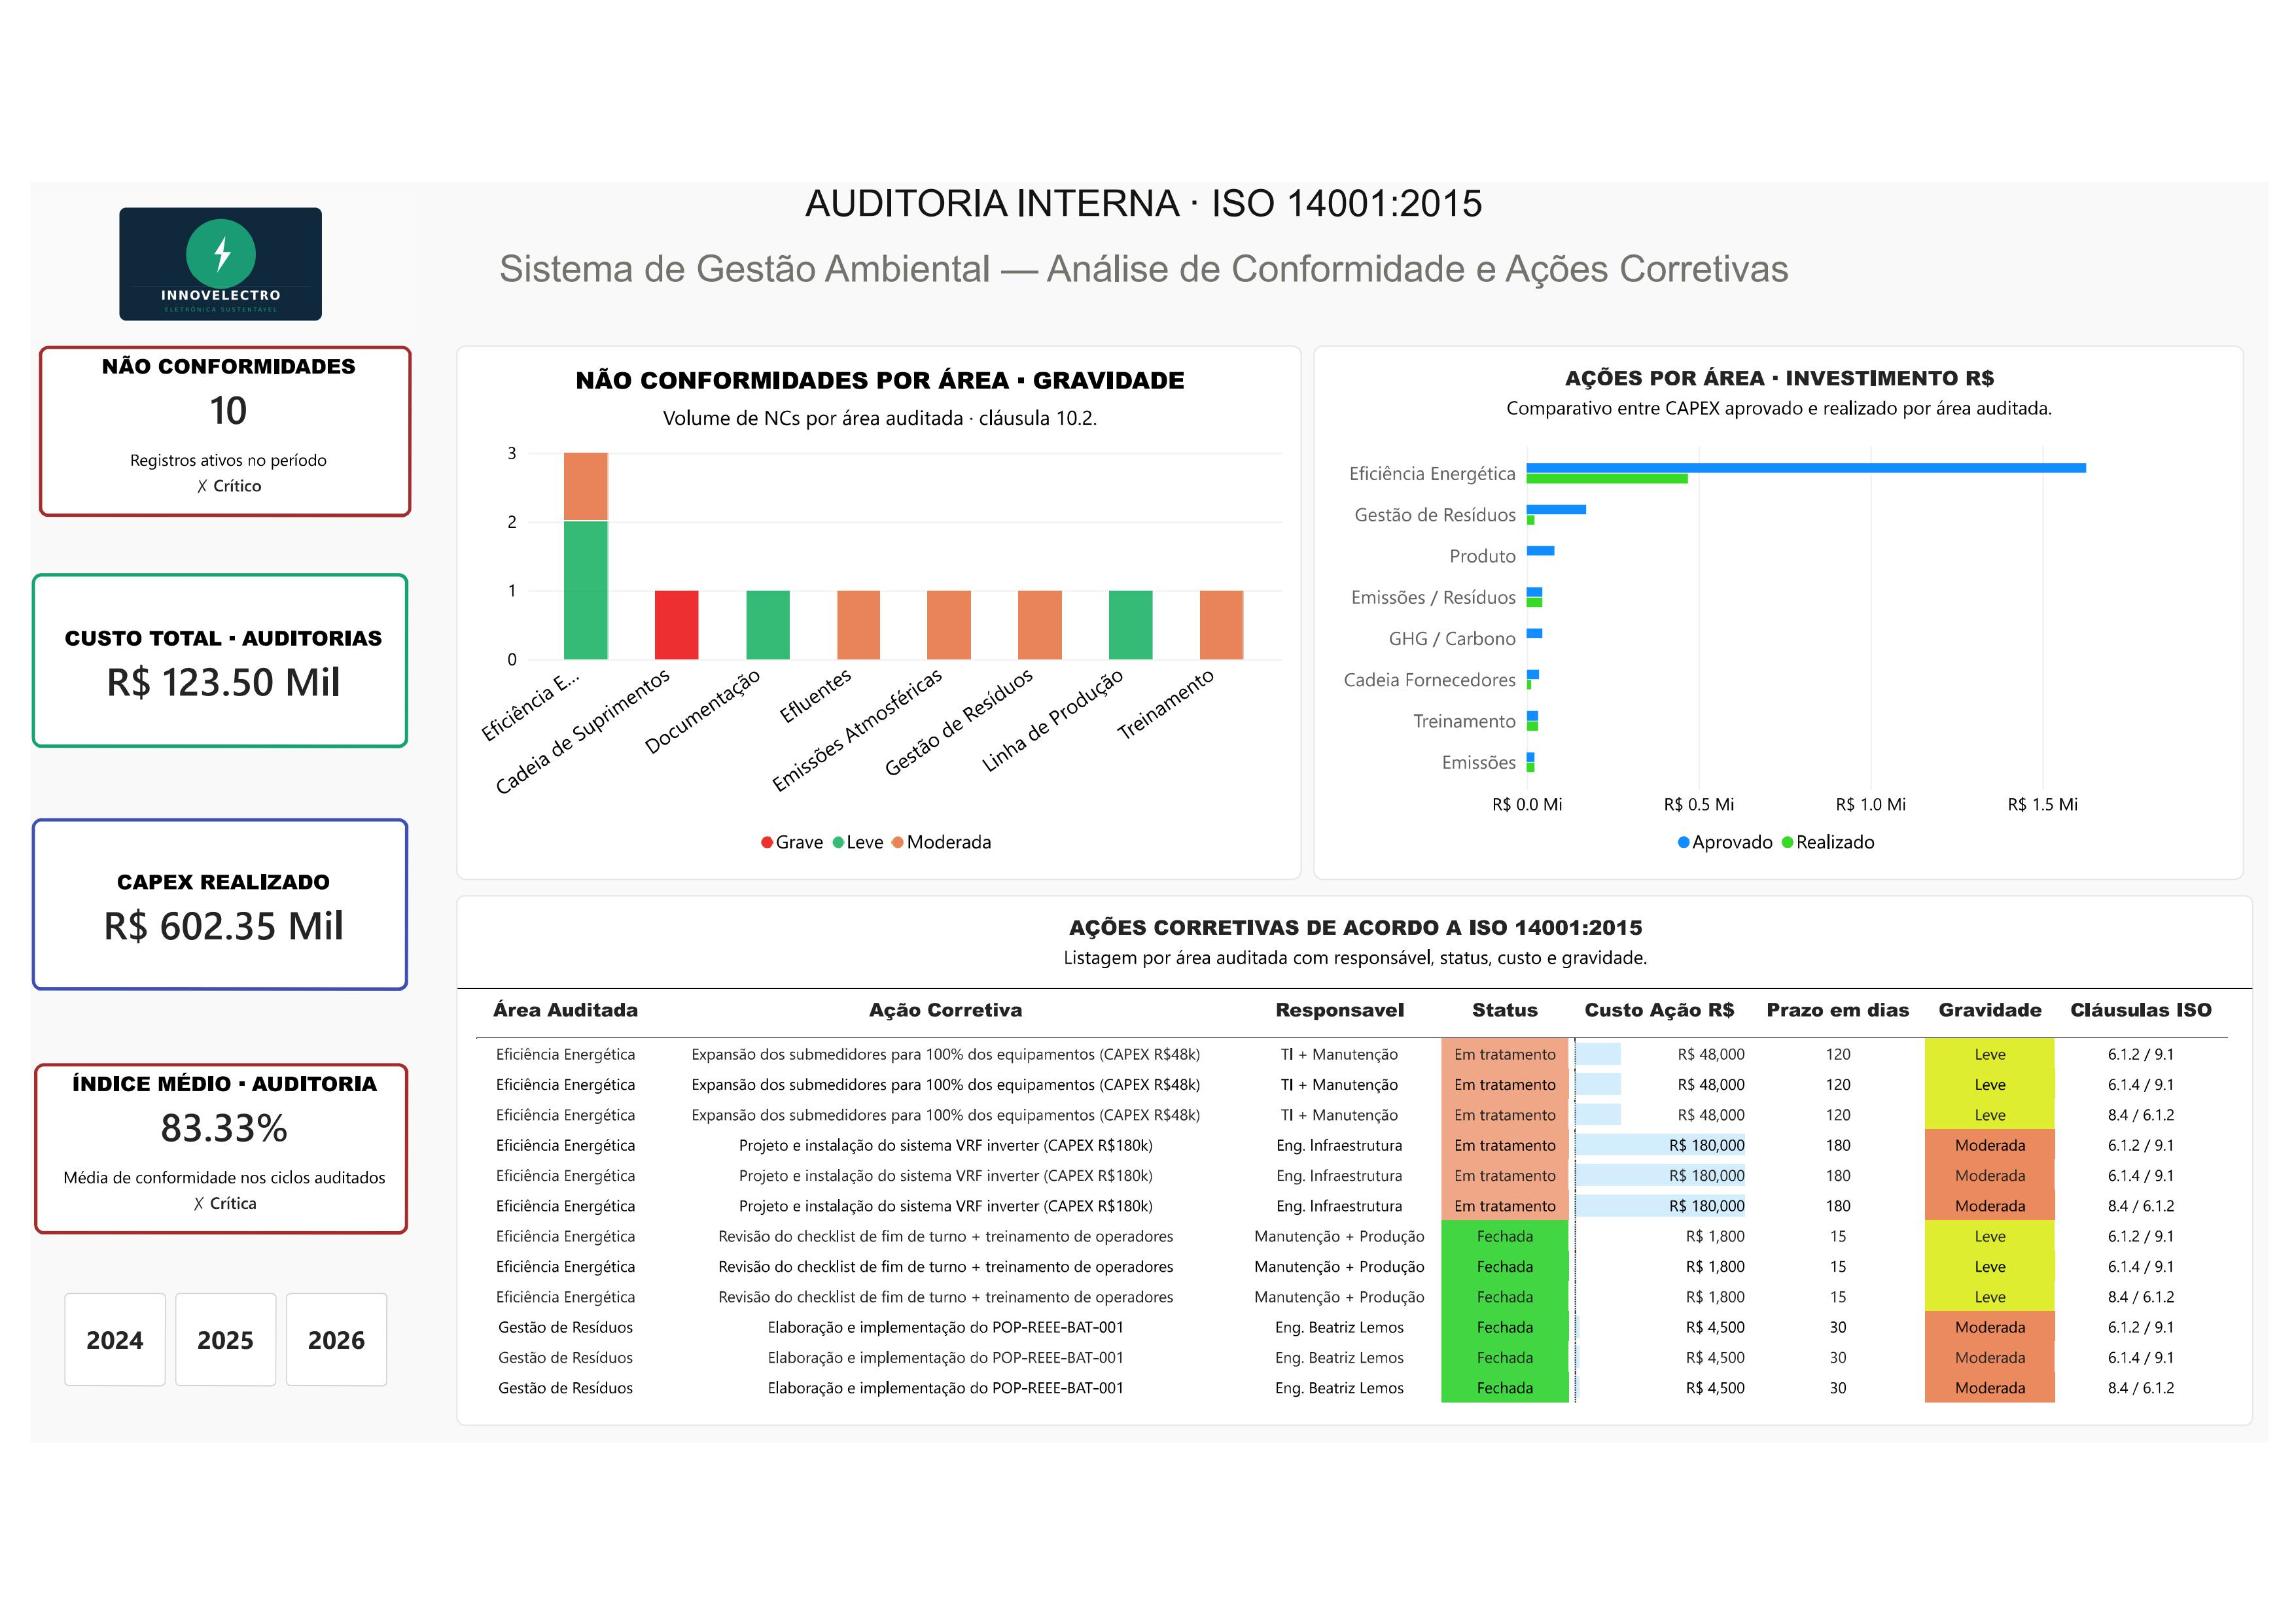

Layout of this report page (visuals, bound fields, positions):
{"tool":"powerbi","page":{"name":"AUDITORIA INTERNA","canvas":[1920,1080],"ordinal":1},"visuals":[{"type":"columnChart","title":"NÃO CONFORMIDADES POR ÁREA · GRAVIDADE","fields":{"Category":["fNao_Conformidades.Area_Auditada"],"Series":["fNao_Conformidades.Gravidade"],"Y":["_Medidas.Total_NCs"]},"box":[365.6,140,725.6,457.8],"z":0},{"type":"tableEx","title":"AÇÕES CORRETIVAS DE ACORDO A ISO 14001:2015","fields":{"Values":["fNao_Conformidades.Area_Auditada","fNao_Conformidades.Acao_Corretiva","fNao_Conformidades.Responsavel","fNao_Conformidades.Status","Sum(fNao_Conformidades.Custo_Acao_R$)","Sum(fNao_Conformidades.Prazo_Dias)","fNao_Conformidades.Gravidade","fAcoes_Corretivas.Clausula_ISO"]},"box":[365.6,611.1,1541.1,454.4],"z":2000},{"type":"clusteredBarChart","title":"AÇÕES POR ÁREA · INVESTIMENTO R$","fields":{"Category":["fInvestimentos_Ambientais.Categoria"],"Y":["Sum(fInvestimentos_Ambientais.CAPEX_Aprovado_R$)","Sum(fInvestimentos_Ambientais.CAPEX_Realizado_R$)"]},"box":[1101.1,140,797.8,457.8],"z":3000},{"type":"advancedSlicerVisual","fields":{"Values":["dCalendario.Ano"]},"box":[30,951.7,278.3,80],"z":4000},{"type":"textbox","box":[30,0,1851.7,170],"z":5000},{"type":"cardVisual","title":"CONFORMIDADE GERAL","fields":{"Data":["_Medidas.Total_NCs"]},"box":[8.3,140,320,146.7],"z":6000},{"type":"cardVisual","title":"CONFORMIDADE GERAL","fields":{"Data":["_Medidas.Indice_Medio_Auditoria"]},"box":[4.3,755.3,320.3,147.2],"z":7000},{"type":"image","box":[0,0,328,140],"z":8000},{"type":"cardVisual","title":"CONFORMIDADE GERAL","fields":{"Data":["_Medidas.CAPEX_Total_Realizado"]},"box":[2.2,545.4,322.5,147.2],"z":9000},{"type":"cardVisual","title":"CONFORMIDADE GERAL","fields":{"Data":["_Medidas.Custo_Total_Auditorias"]},"box":[2.2,335.4,322.5,149.3],"z":10000}]}

Visuals, with their boxes on the page's 1920x1080 design canvas (x1, y1, x2, y2). These are canvas units, not pixel positions in the 2296x1623 screenshot, which may show the page scaled, cropped or inside an application window:
"NÃO CONFORMIDADES POR ÁREA · GRAVIDADE" columnChart: bbox=(366, 140, 1091, 598)
"AÇÕES CORRETIVAS DE ACORDO A ISO 14001:2015" tableEx: bbox=(366, 611, 1907, 1066)
"AÇÕES POR ÁREA · INVESTIMENTO R$" clusteredBarChart: bbox=(1101, 140, 1899, 598)
advancedSlicerVisual - dCalendario.Ano: bbox=(30, 952, 308, 1032)
textbox: bbox=(30, 0, 1882, 170)
"CONFORMIDADE GERAL" cardVisual: bbox=(8, 140, 328, 287)
"CONFORMIDADE GERAL" cardVisual: bbox=(4, 755, 325, 902)
image: bbox=(0, 0, 328, 140)
"CONFORMIDADE GERAL" cardVisual: bbox=(2, 545, 325, 693)
"CONFORMIDADE GERAL" cardVisual: bbox=(2, 335, 325, 485)
